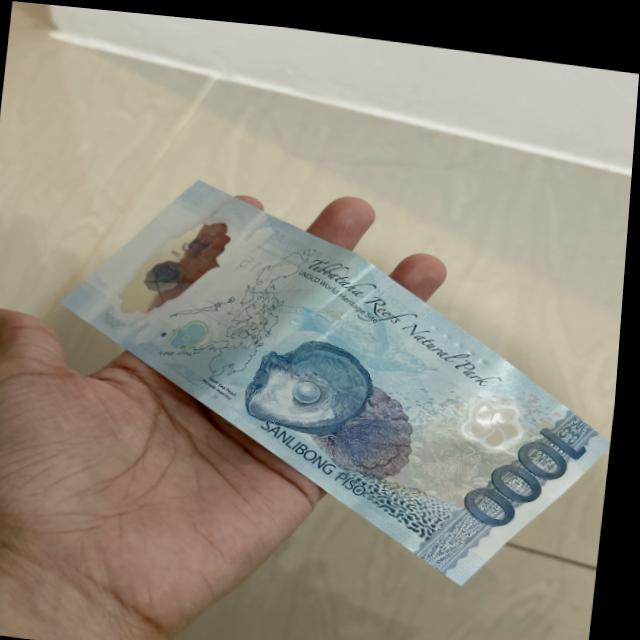clear_window: (107, 189, 247, 335)
sampaguita: (460, 383, 530, 439)
